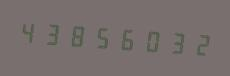eight: (65, 16, 88, 54)
five: (89, 18, 112, 55)
four: (17, 13, 40, 50)
six: (113, 19, 136, 57)
three: (41, 14, 64, 52), (161, 23, 184, 60)
two: (185, 24, 208, 62)
zero: (137, 21, 160, 59)
